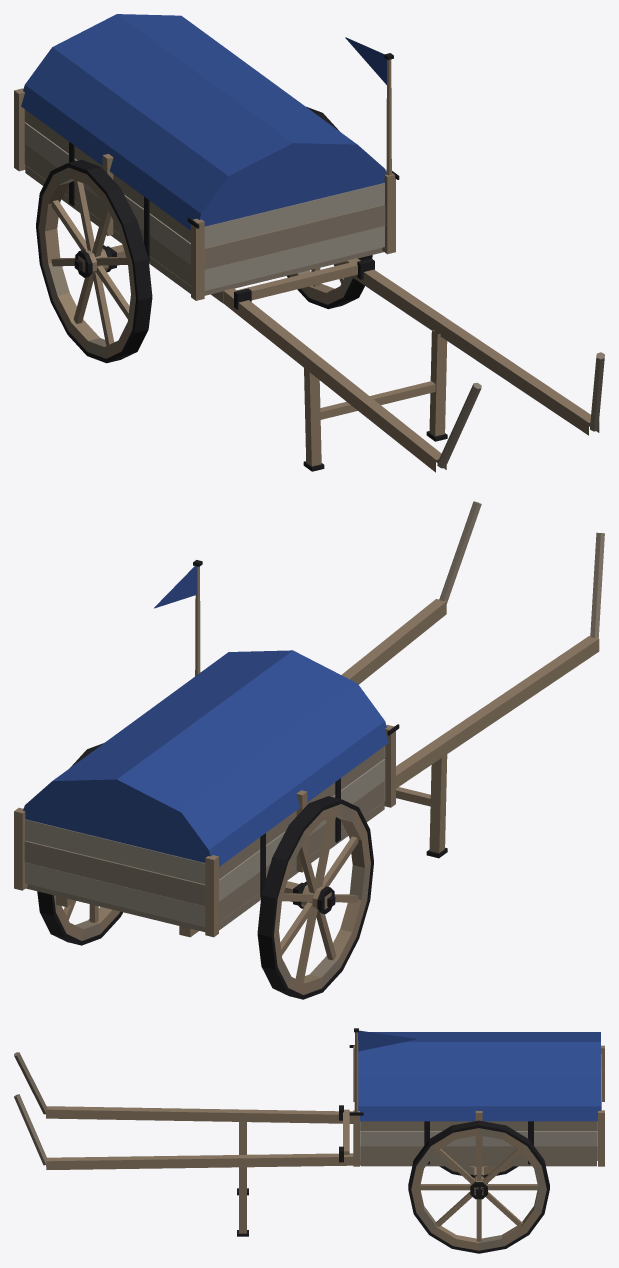
Rendered from karren_ochse.glb.
3 views of the same model, one above another, from view 1: azimuth 30°, elevation 25°; view 2: azimuth 150°, elevation 25°; view 3: azimuth 270°, elevation 25° (orthographic). The views are drawn at different scales.
Visible parts, largest first — view 1: Plane, Karren, Rad_R, Stuetze, Rad_L, Wimpel; view 2: Plane, Karren, Rad_R, Rad_L, Stuetze, Wimpel; view 3: Plane, Karren, Rad_L, Stuetze, Wimpel, Rad_R.
Part boxes in pixels (box(x1,y1,x2,y2)): Plane: box(21, 14, 386, 230); Karren: box(14, 53, 604, 472); Rad_R: box(36, 159, 152, 363); Stuetze: box(303, 330, 447, 471); Rad_L: box(287, 106, 372, 309); Wimpel: box(345, 37, 386, 84); Plane: box(23, 650, 388, 866); Karren: box(14, 501, 604, 937); Rad_R: box(257, 796, 373, 999); Rad_L: box(37, 743, 122, 945); Stuetze: box(396, 754, 447, 858); Wimpel: box(154, 565, 196, 608); Plane: box(358, 1032, 600, 1121); Karren: box(14, 1028, 604, 1195); Rad_L: box(408, 1120, 549, 1253); Stuetze: box(237, 1121, 248, 1236); Wimpel: box(358, 1030, 416, 1051); Rad_R: box(439, 1166, 518, 1177).
Size of the model in its own units: 2.08 by 2.43 by 6.01.
